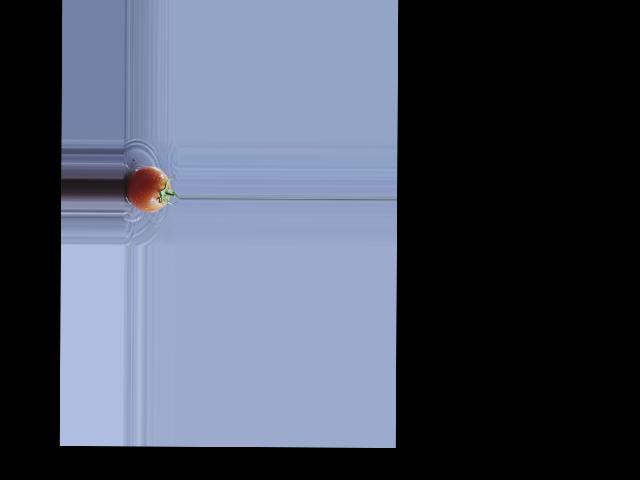tomato: (126, 166, 170, 211)
